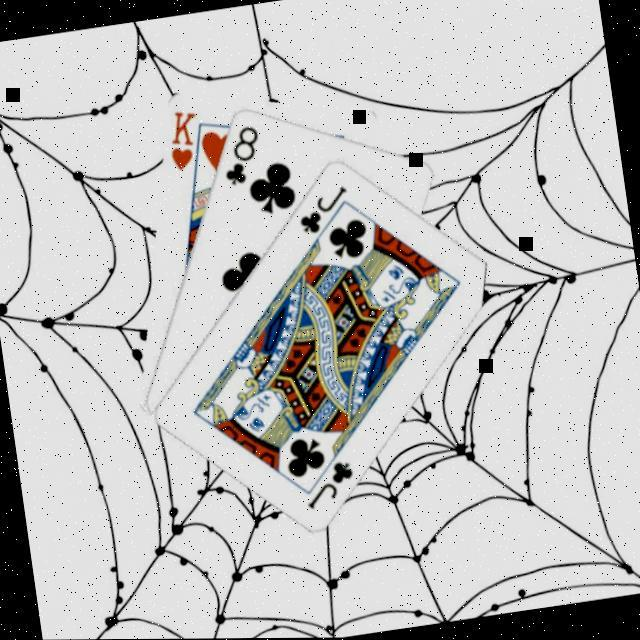8C: (214, 122, 266, 192)
JC: (291, 184, 354, 241), (296, 458, 359, 515)
KH: (160, 108, 204, 176)
